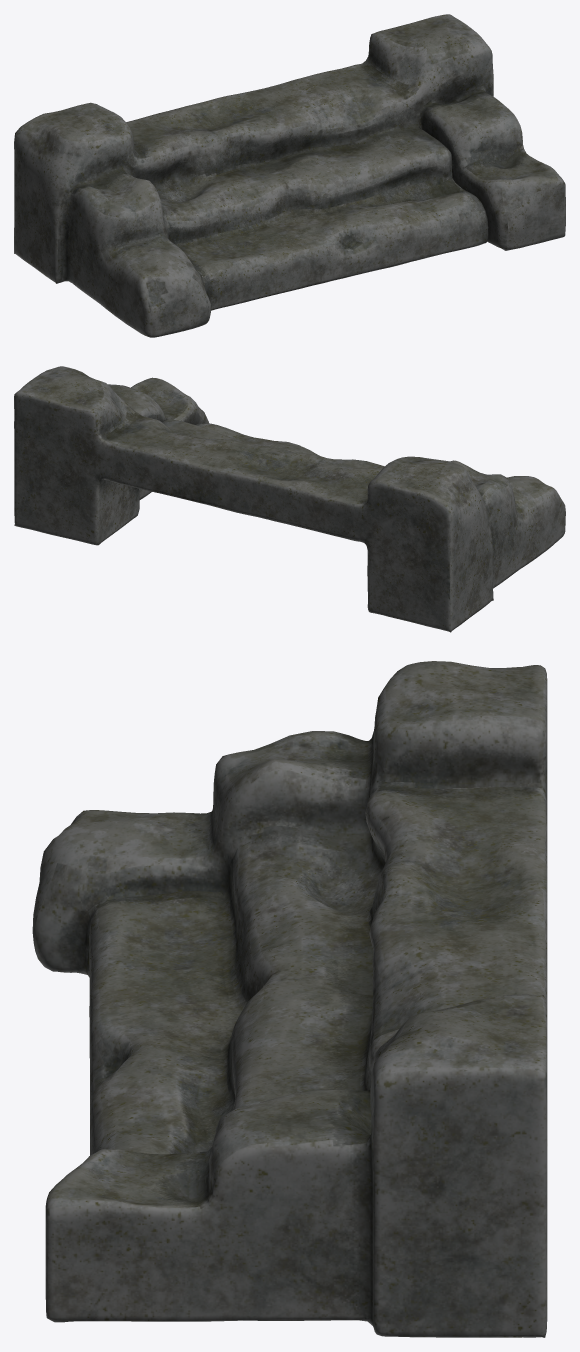
Rendered from stairs-textured.fbx.
3 renders of one model, top to bottom at view 1: azimuth 30°, elevation 25°; view 2: azimuth 150°, elevation 25°; view 3: azimuth 270°, elevation 25°, orthographic. The views are drawn at different scales.
Parts seen in each view (by area): view 1: stairs; view 2: stairs; view 3: stairs.
Part boxes in pixels (bbox=[...]): stairs: bbox=[14, 14, 565, 337]; stairs: bbox=[14, 366, 565, 632]; stairs: bbox=[32, 661, 547, 1337].
Bounding box in the file's own units: 12.27 × 3.8 × 6.25.
1 material, 1 textured.
